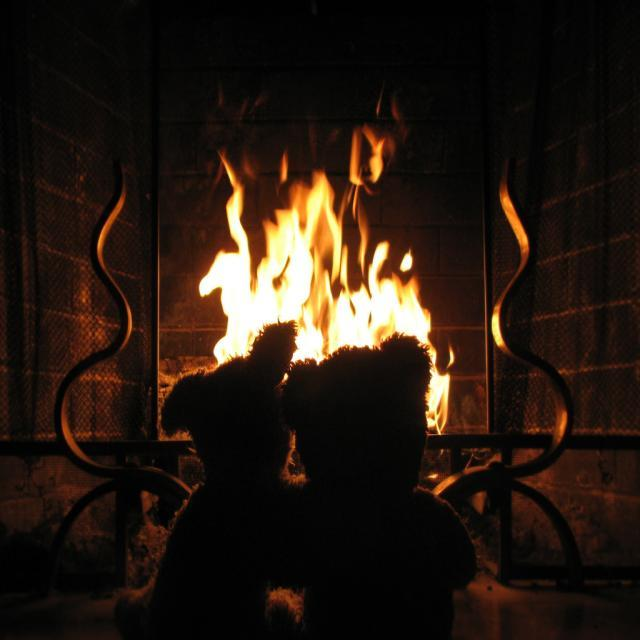Fire: (234, 197, 314, 339), (315, 292, 435, 340)
